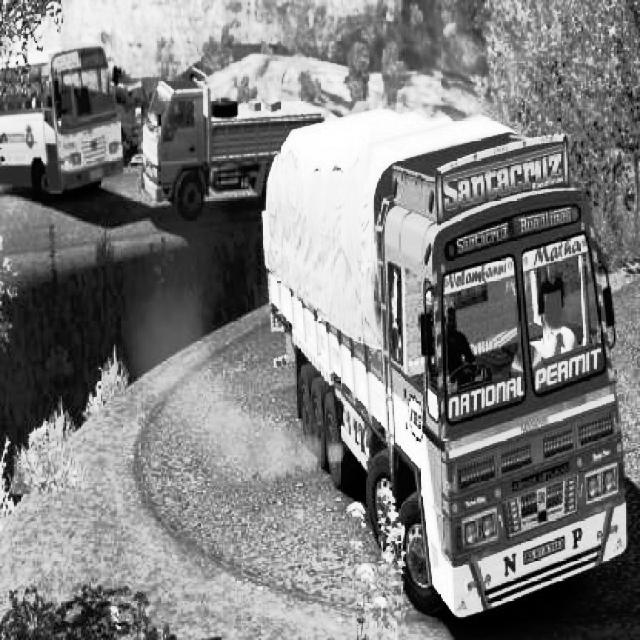HCV: (282, 103, 630, 619)
